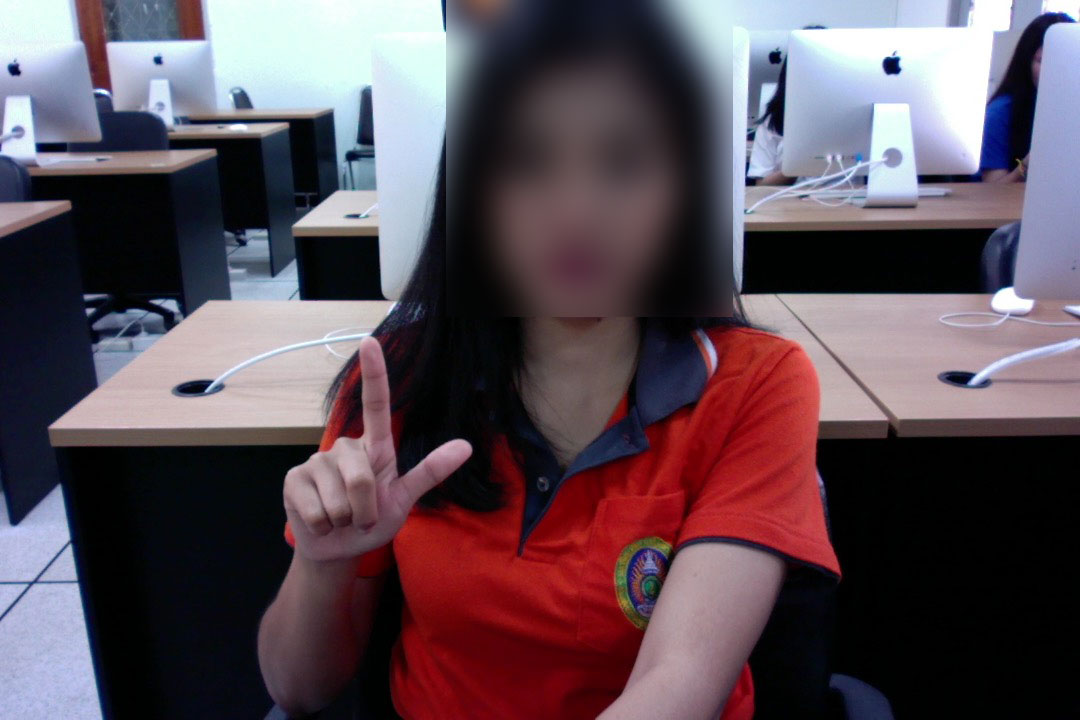lor: (266, 331, 477, 570)
